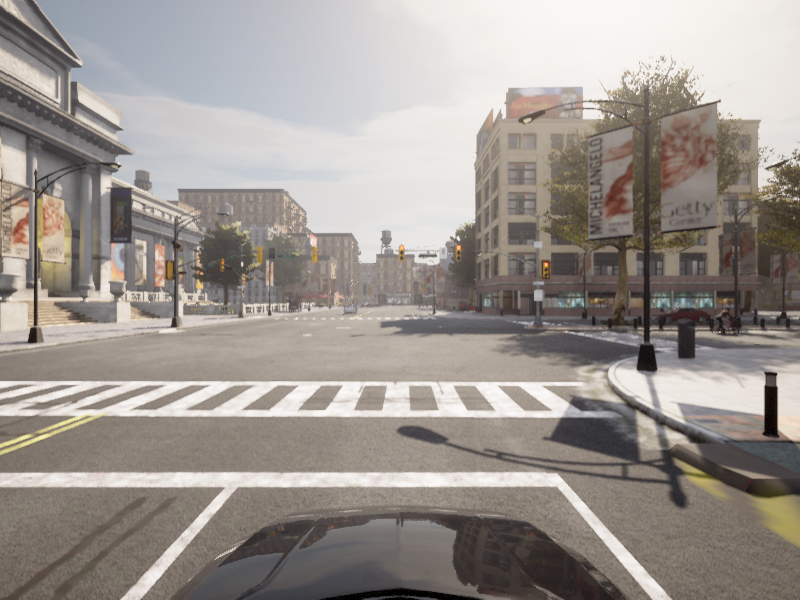vehicle: (646, 307, 715, 324), (707, 307, 743, 335)
